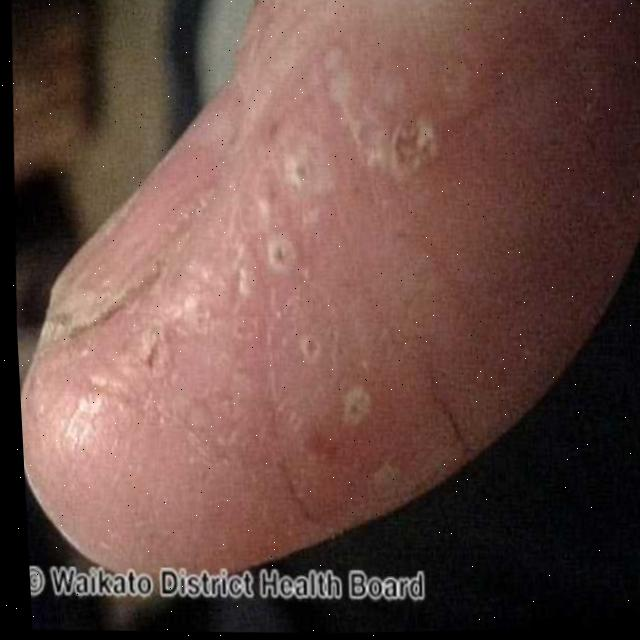Eczema: (74, 30, 508, 515)
